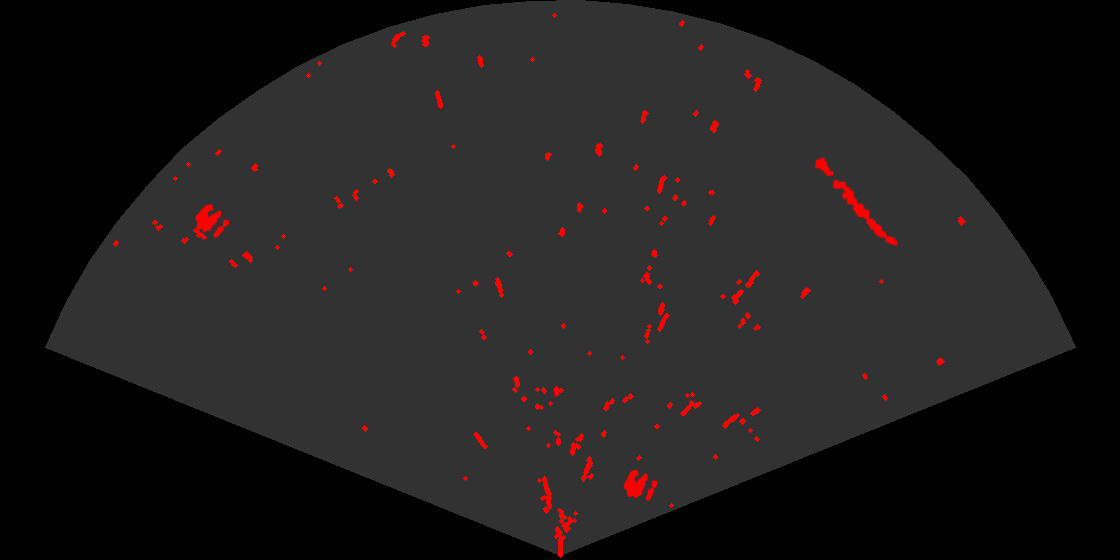ball: (194, 203, 231, 239), (622, 468, 659, 502)
chain: (813, 155, 900, 248)
